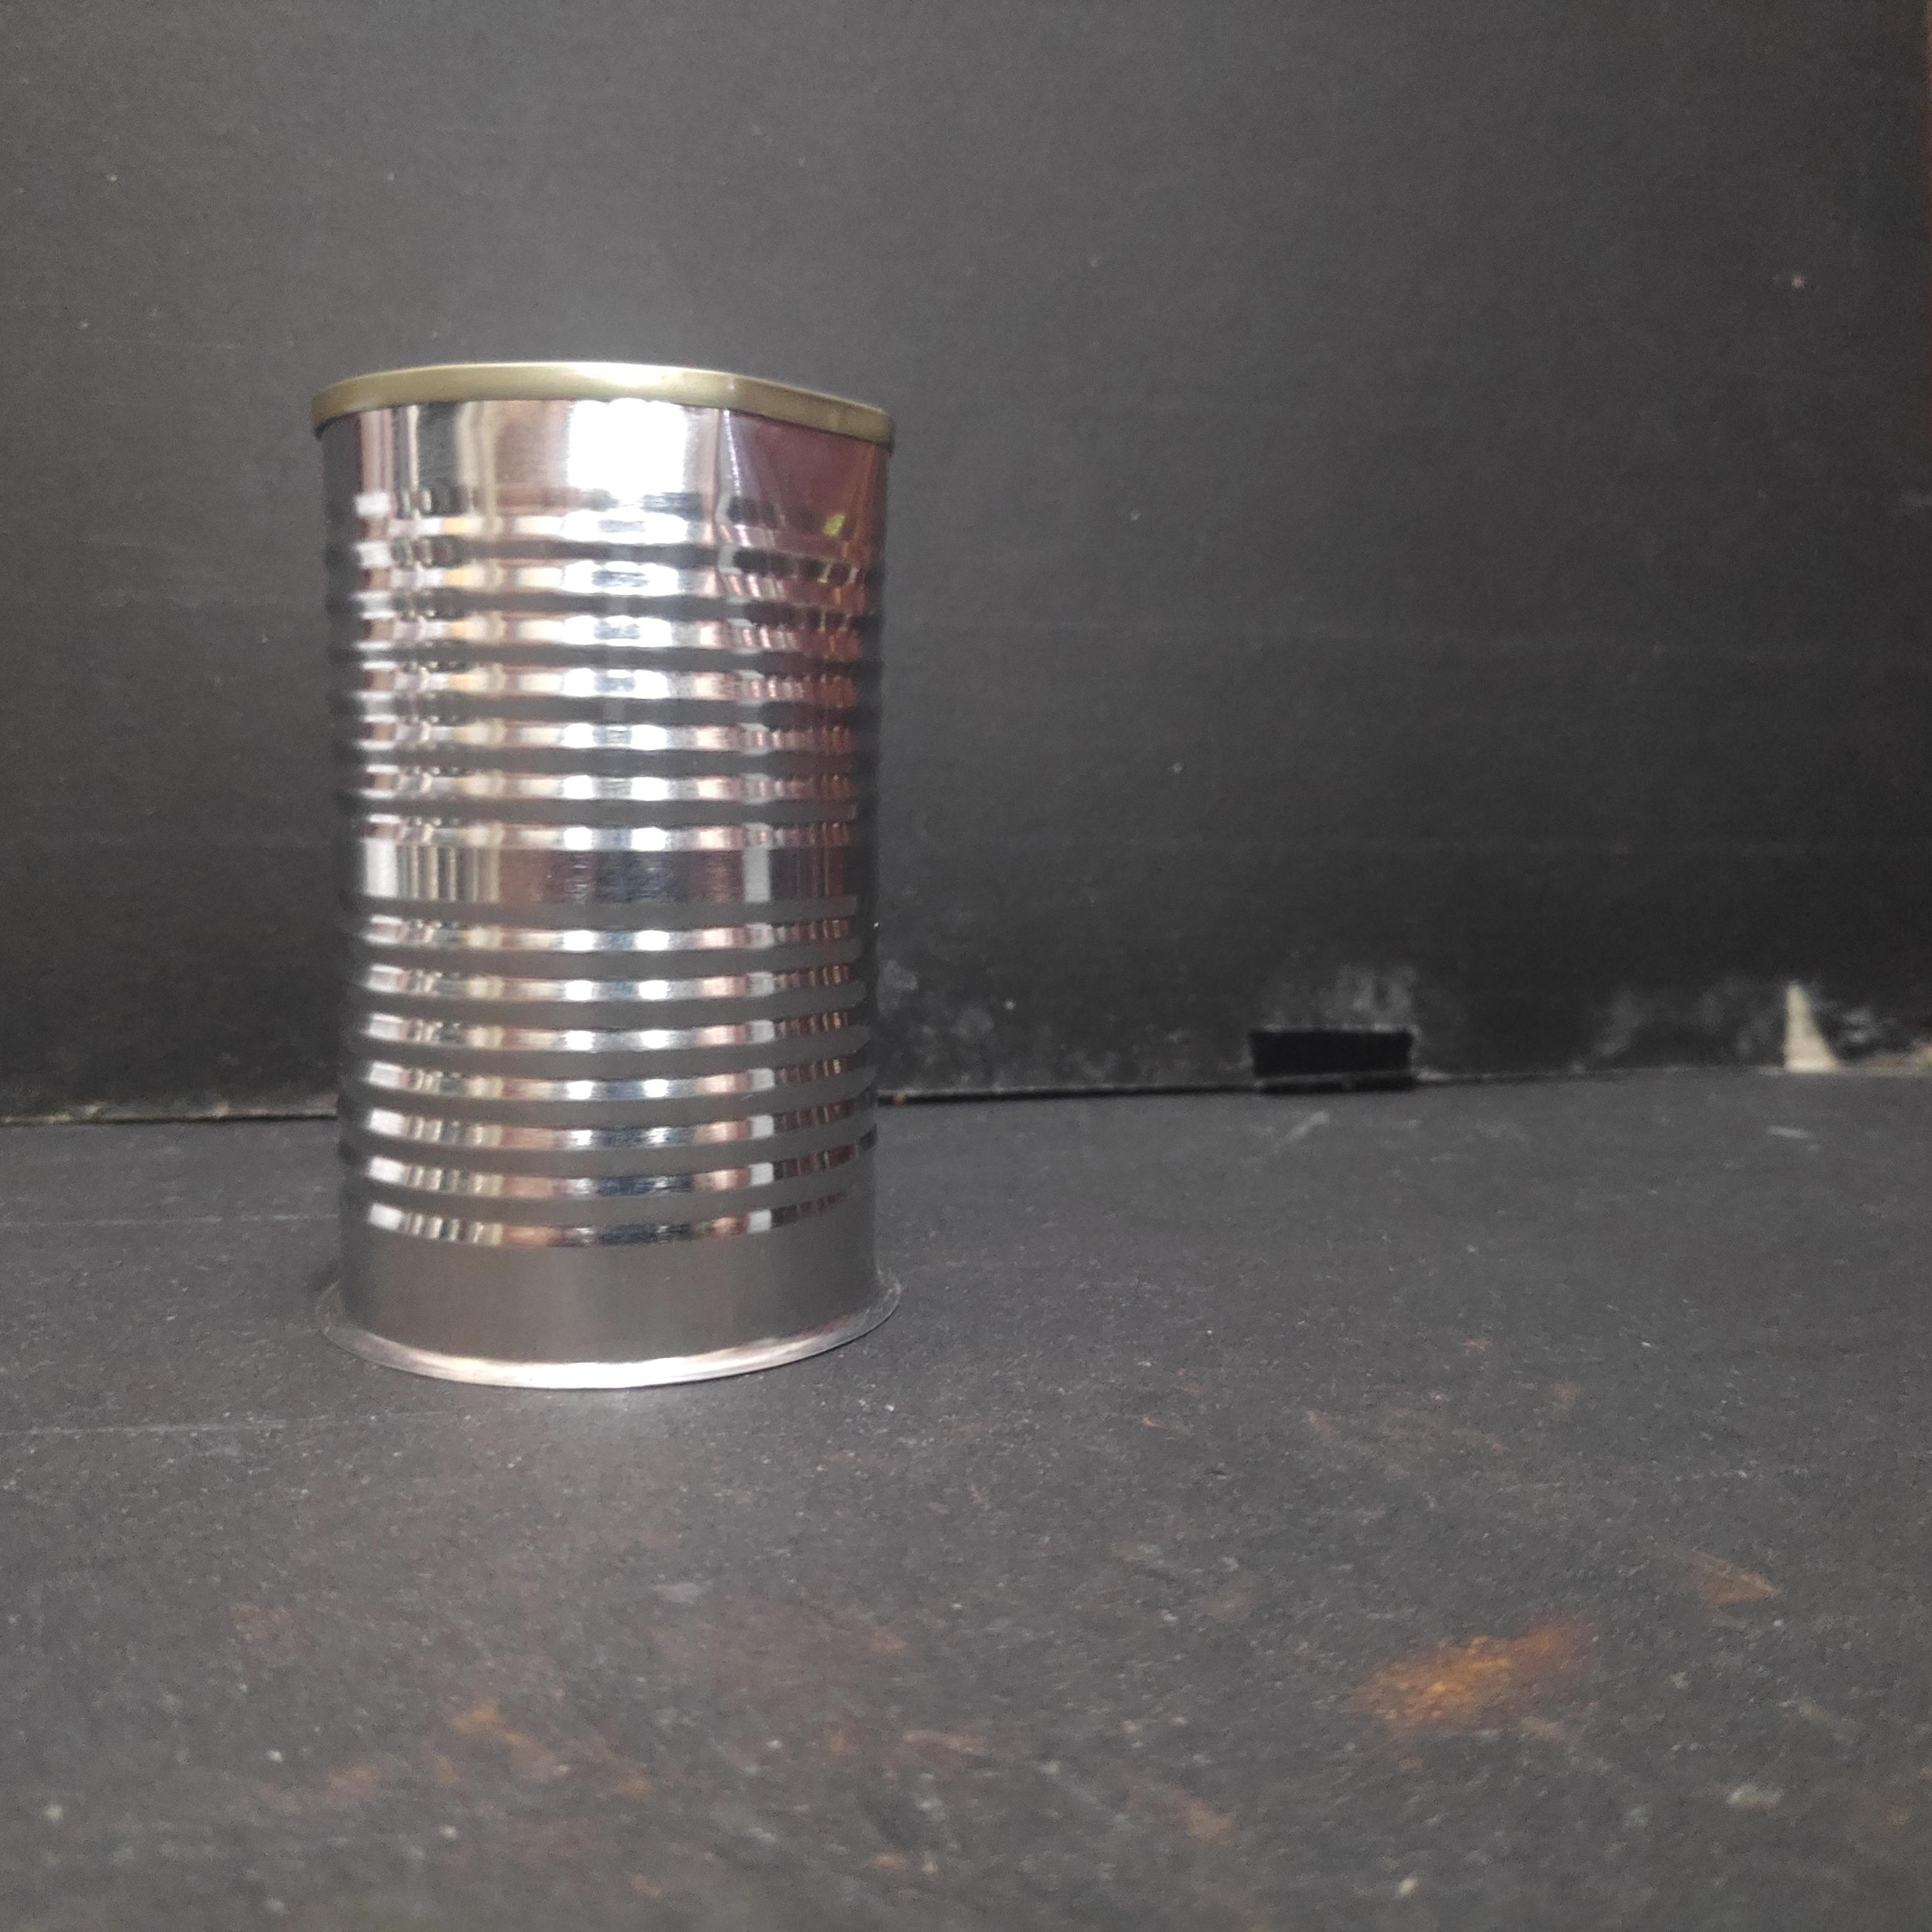Minor Defect: (304, 349, 906, 1394)
